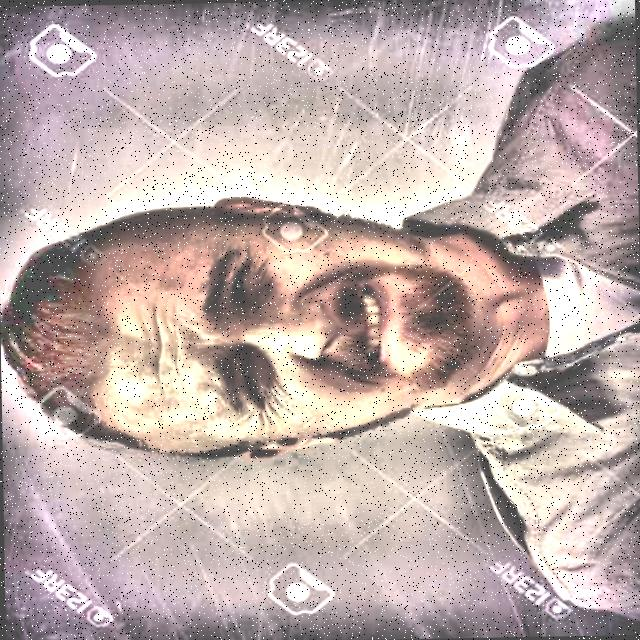sad: (0, 182, 478, 471)
